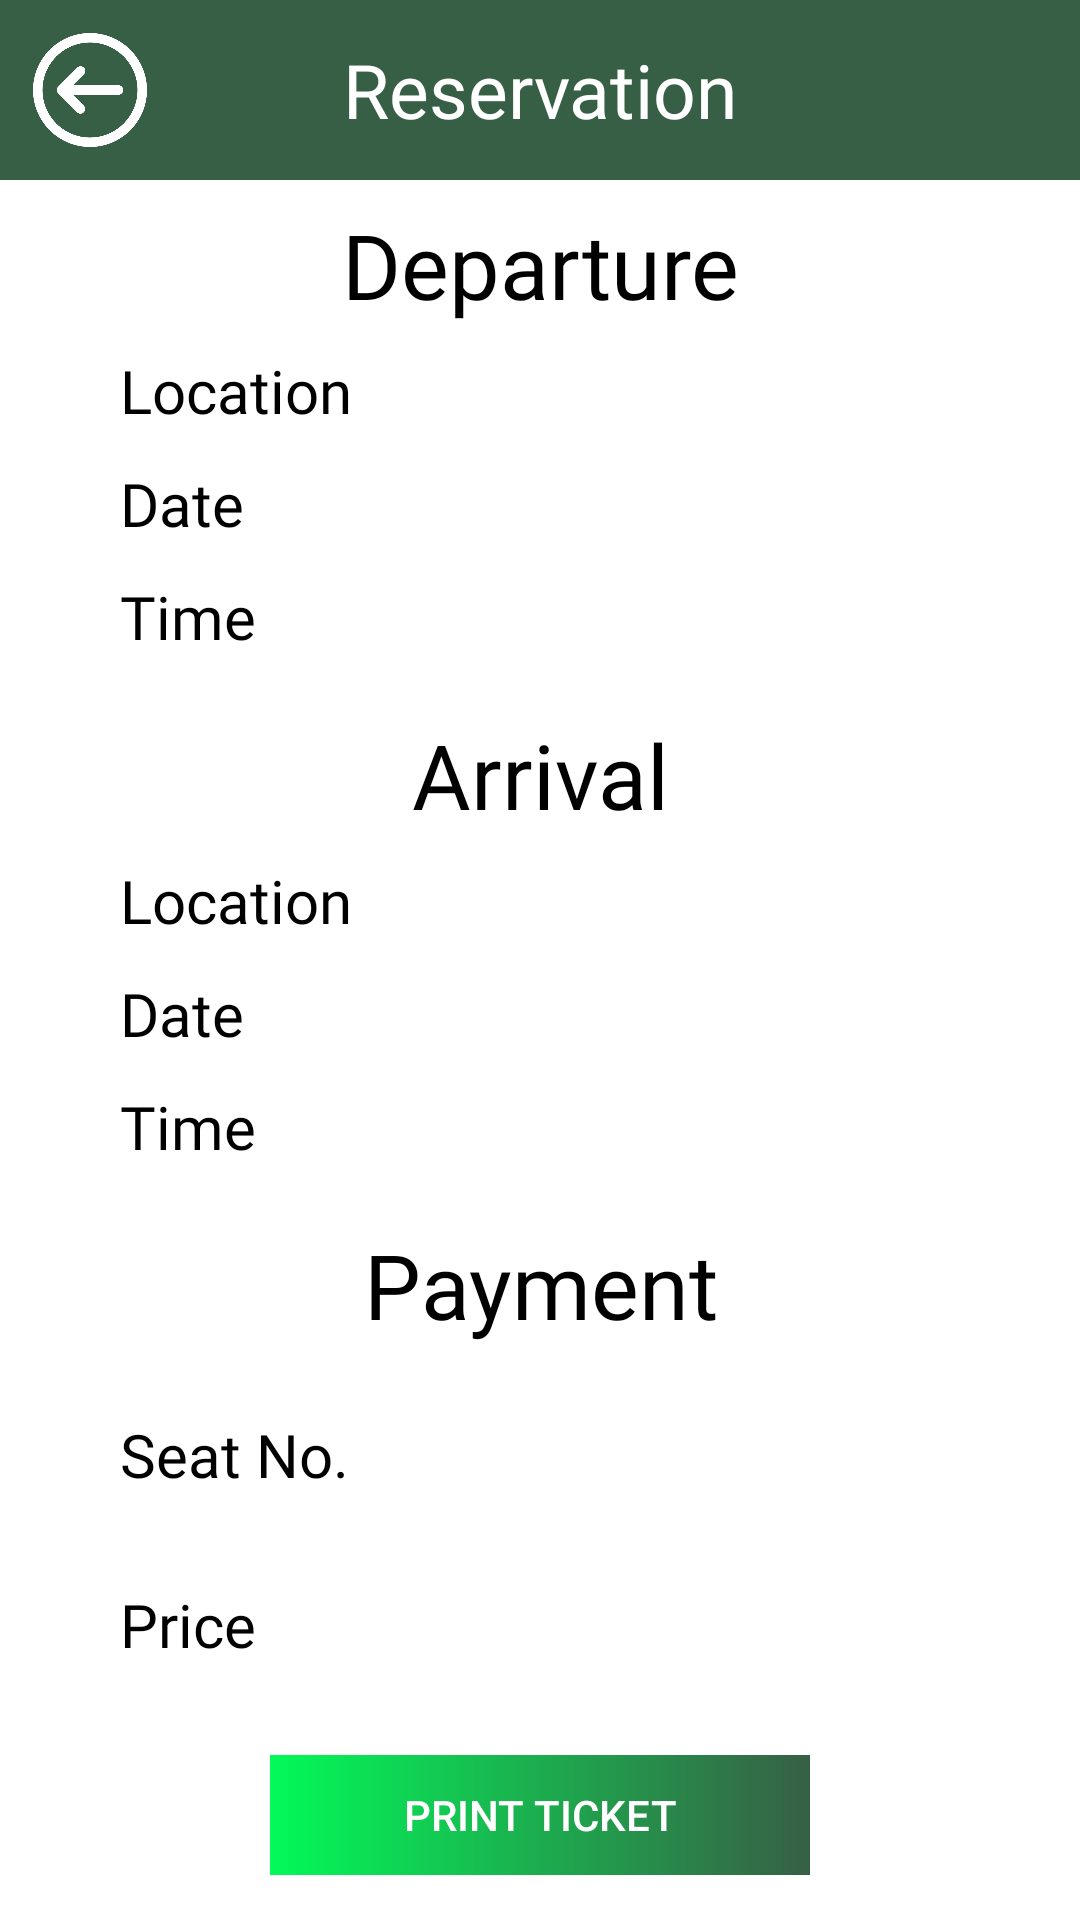

Screen size 1080*1920. Icon name, then its center in pixels as [x,y]:
back: [90,90]
